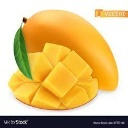mango: (18, 9, 120, 92)
